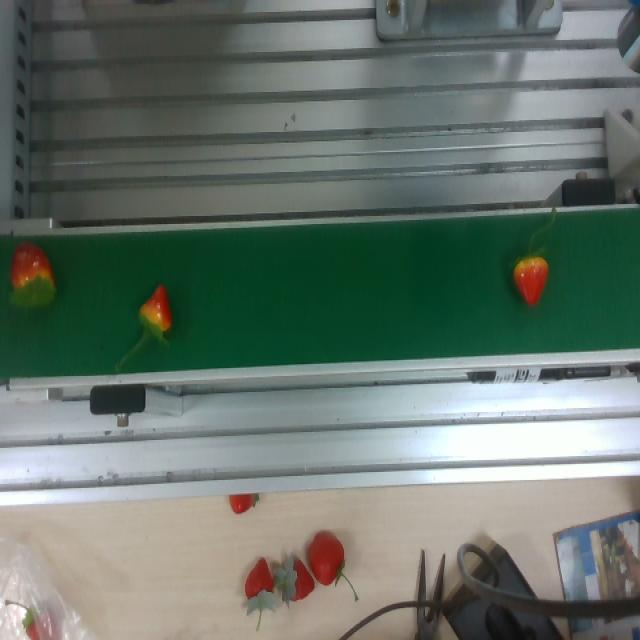Small Unripe Strawberry: (8, 239, 60, 318), (128, 279, 184, 341), (512, 246, 552, 307)
conveyor: (0, 207, 640, 389)
